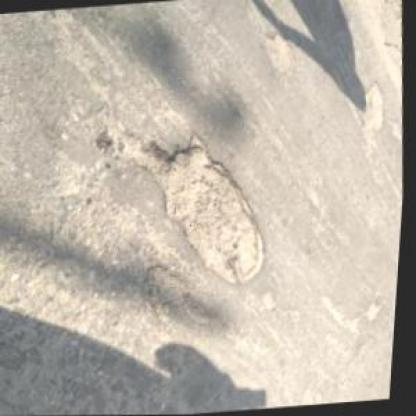pothole: (111, 116, 280, 296), (143, 260, 220, 332), (320, 284, 391, 340), (260, 26, 300, 80), (355, 82, 390, 141), (263, 287, 283, 312)
